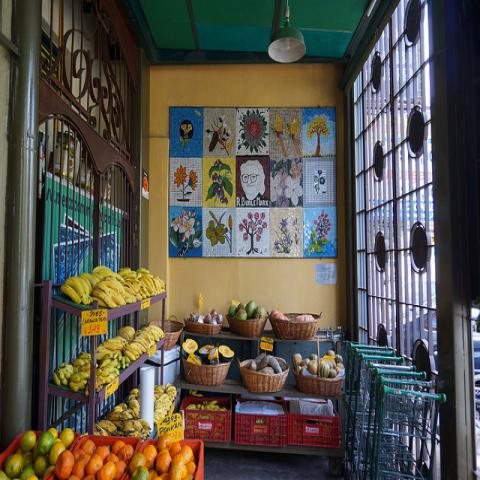car: (424, 310, 437, 351)
